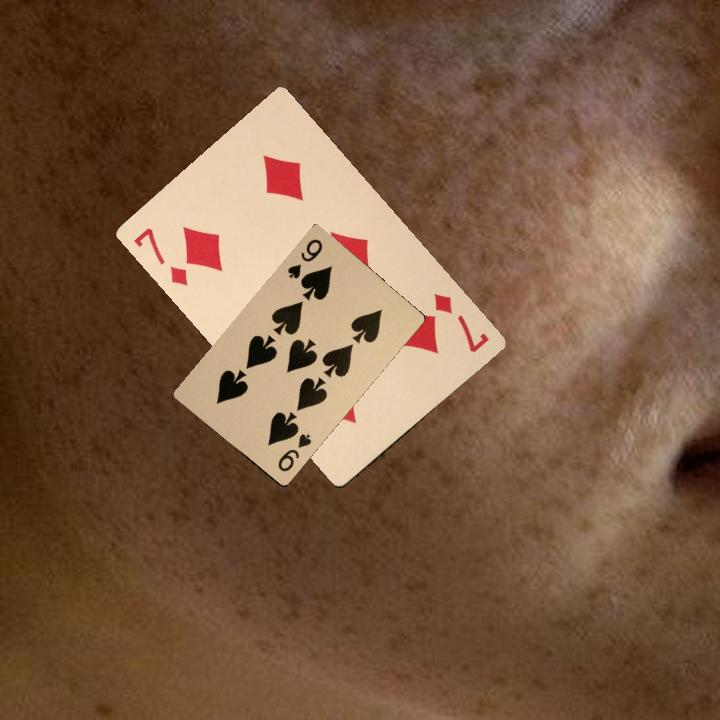7d: (430, 289, 492, 355), (129, 223, 191, 289)
9s: (283, 235, 325, 281), (274, 429, 314, 474)
